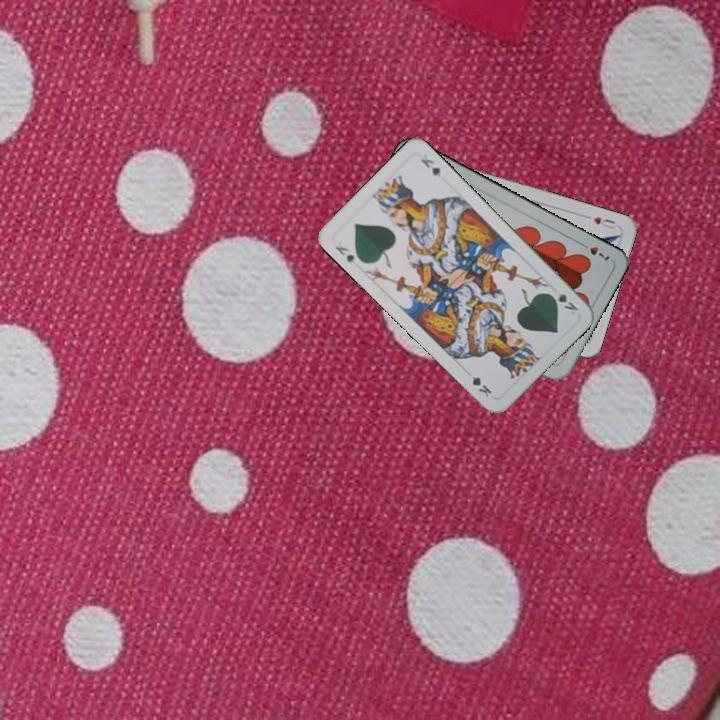GK: (545, 289, 581, 317), (331, 242, 359, 267)
H7: (576, 238, 613, 264)
HU: (589, 213, 619, 233)
